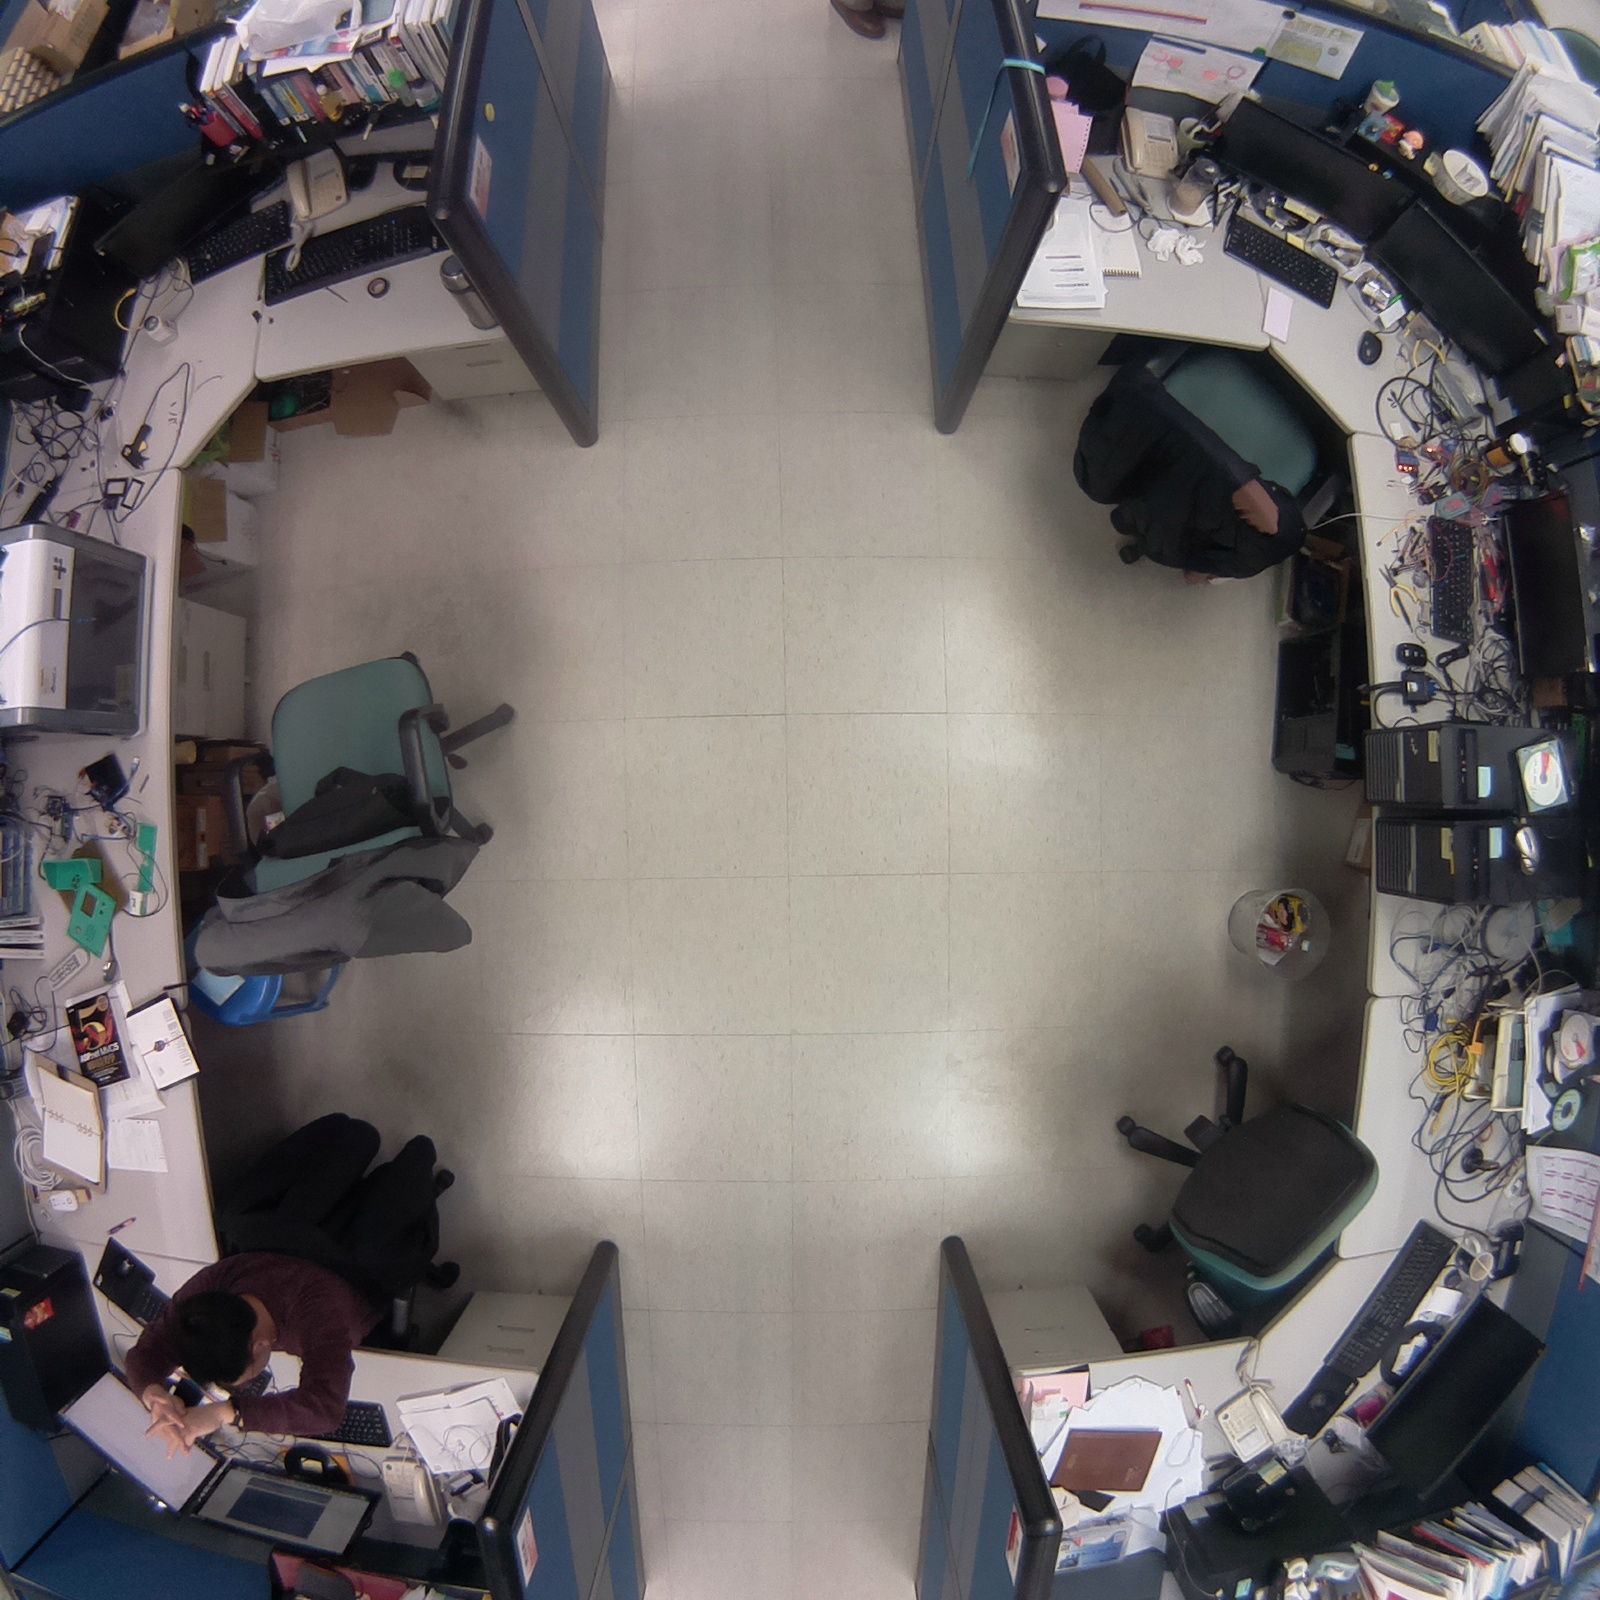chair: (173, 622, 542, 1004), (1099, 1027, 1399, 1352), (1058, 322, 1345, 593)
head: (166, 1280, 278, 1400)
sitting: (121, 1086, 465, 1460)
